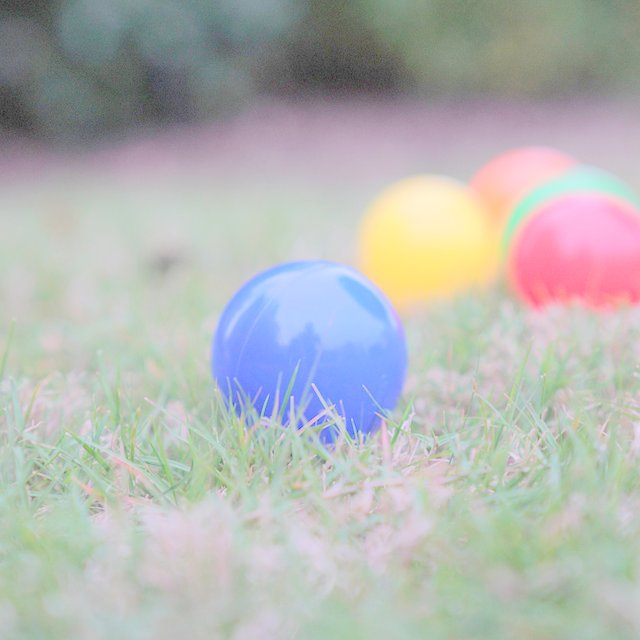ball: (507, 169, 636, 214)
